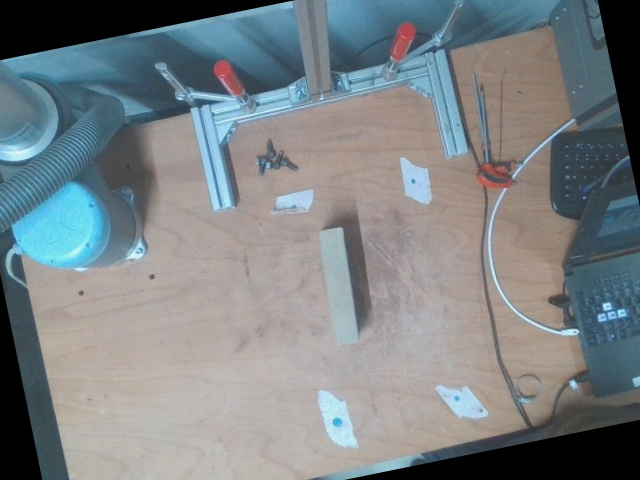brick-side: (322, 230, 355, 342)
